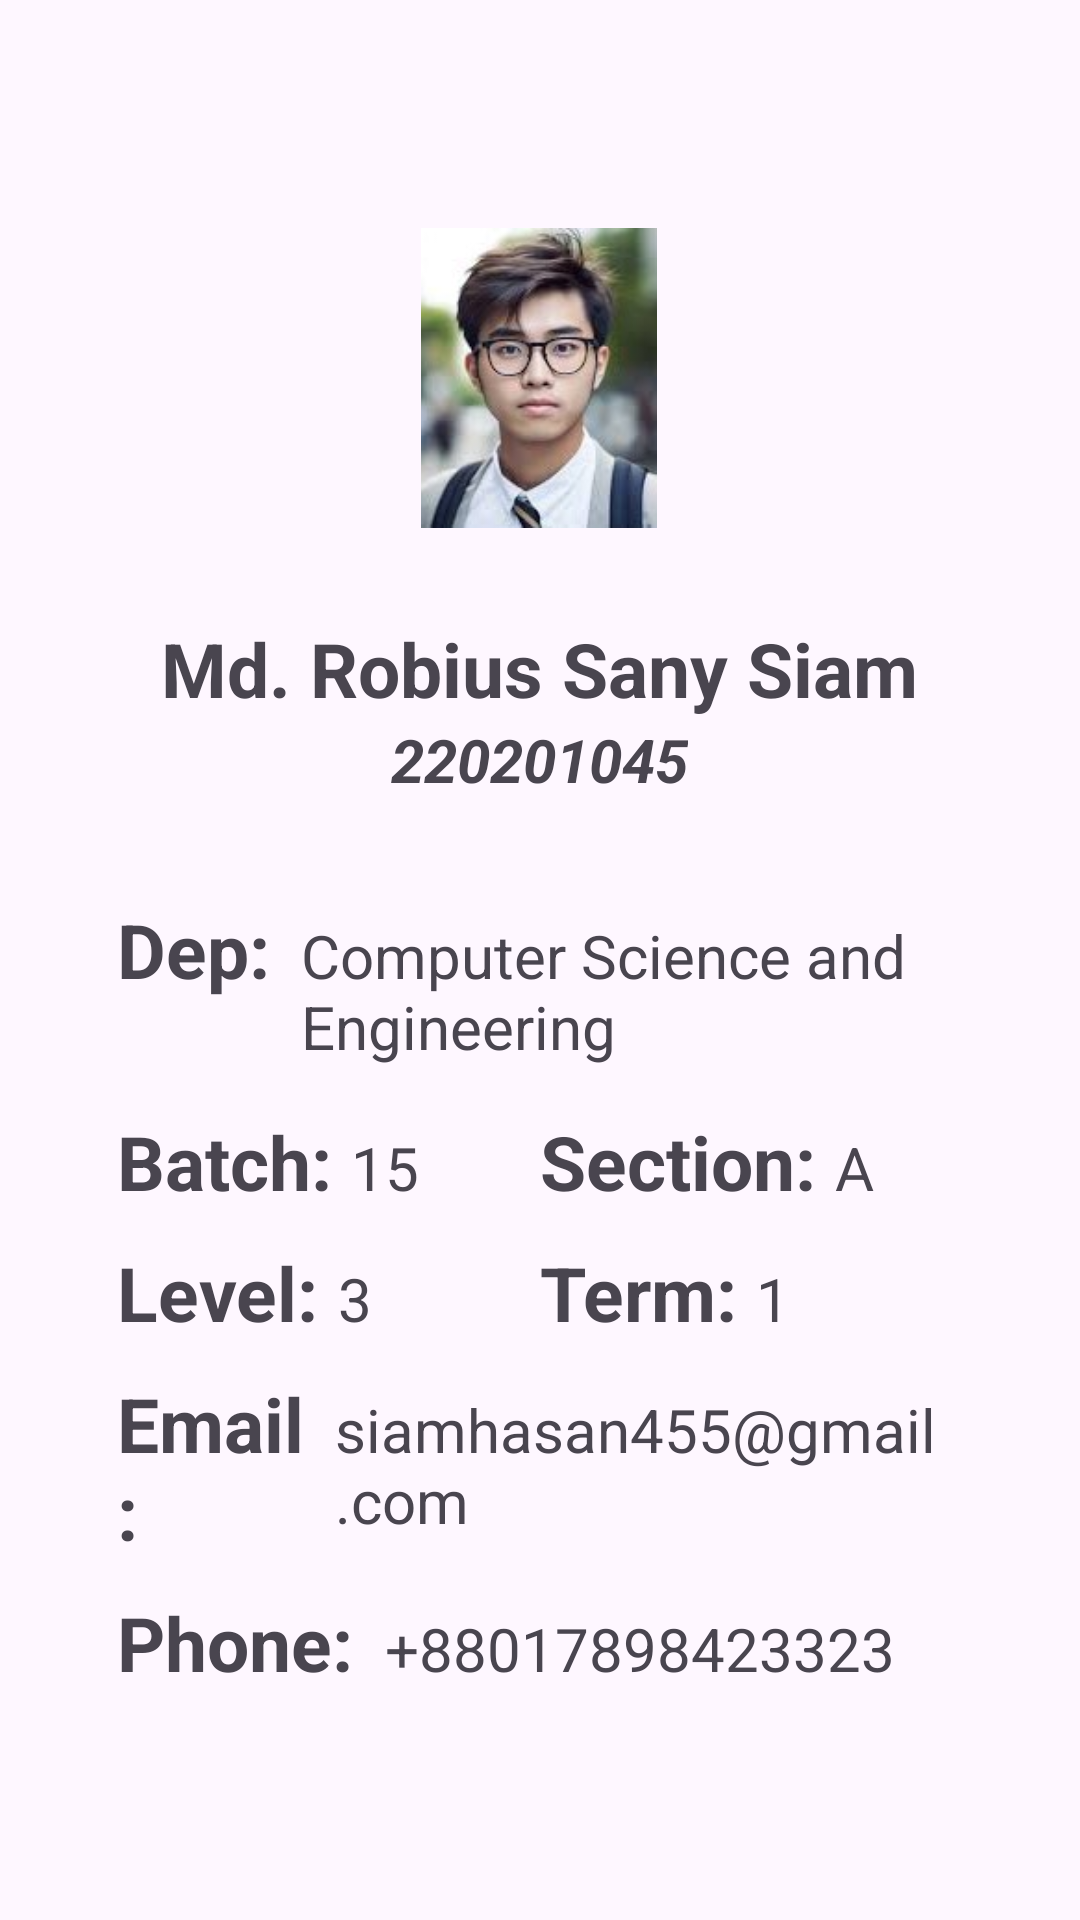

Where icons sit on this 1080 × 1920 app screen, as {"x1": x1, "y1": y1, "x2": x2, "y2": y2}:
stuprofile: {"x1": 421, "y1": 228, "x2": 657, "y2": 528}
